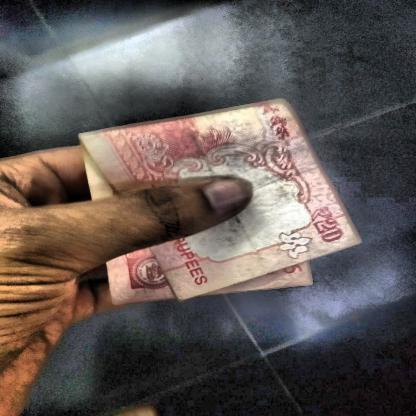Rs20: (302, 203, 351, 247)
